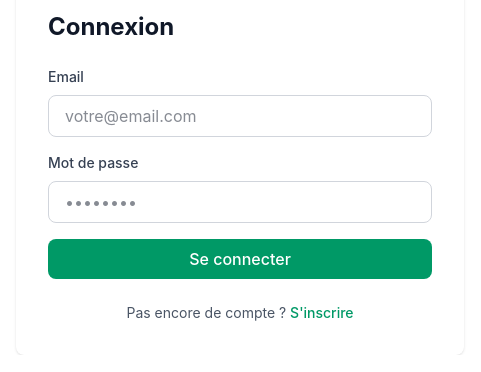
Test: LoginForm › devrait afficher "Connexion..." pendant la soumission
In the field labelled "Email": (240,116) [48, 95, 432, 137], type "test@example.com"
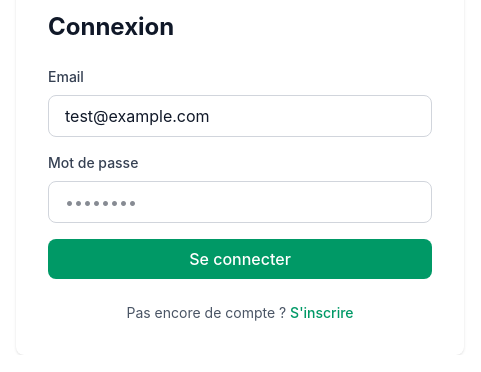
In the password field labelled "Mot de passe": (240,202) [48, 181, 432, 223], type "password123"
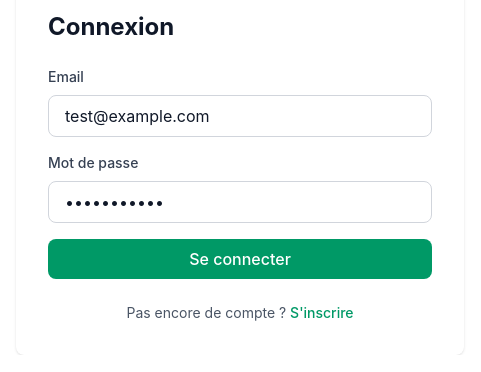
Click the button "Se connecter": (240,259) [48, 239, 432, 279]
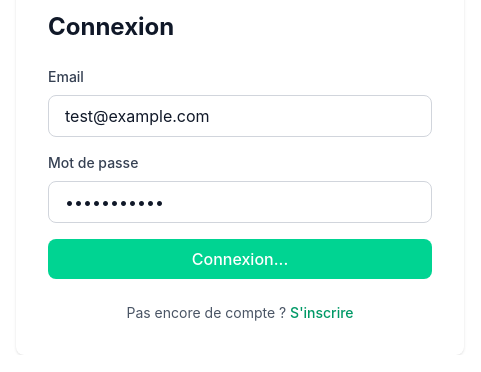
Check: the button "Connexion..." is shown, box [48, 239, 432, 279]
